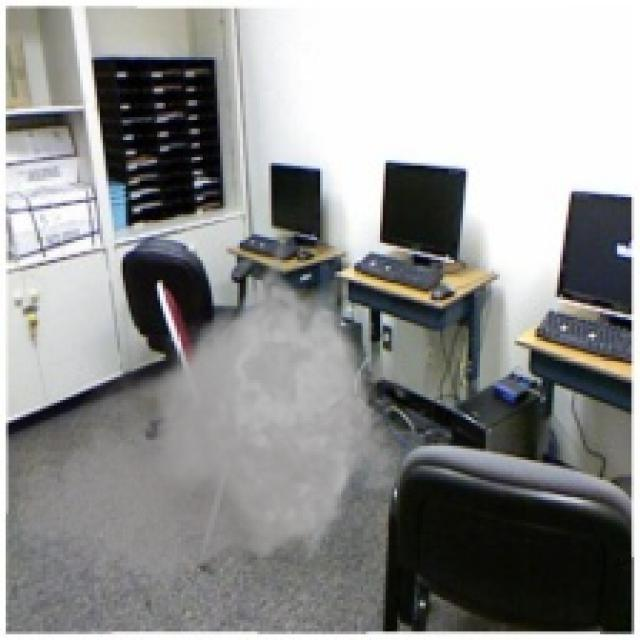smoke: (8, 226, 423, 597)
